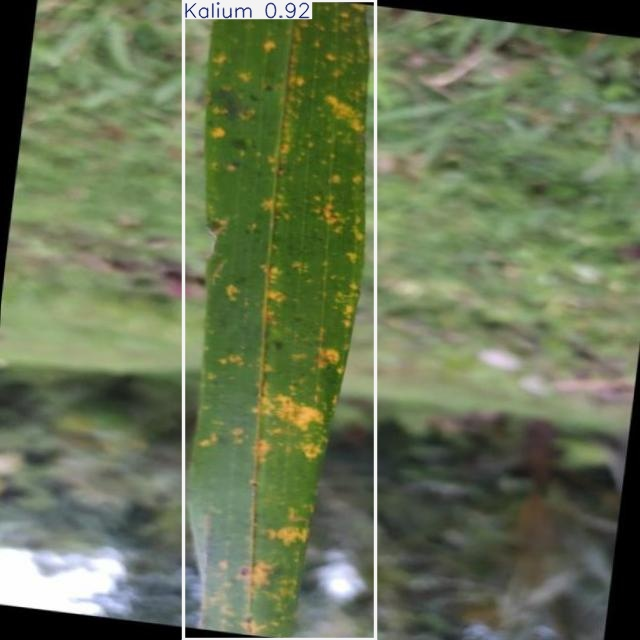Kalium: (183, 0, 375, 640)
